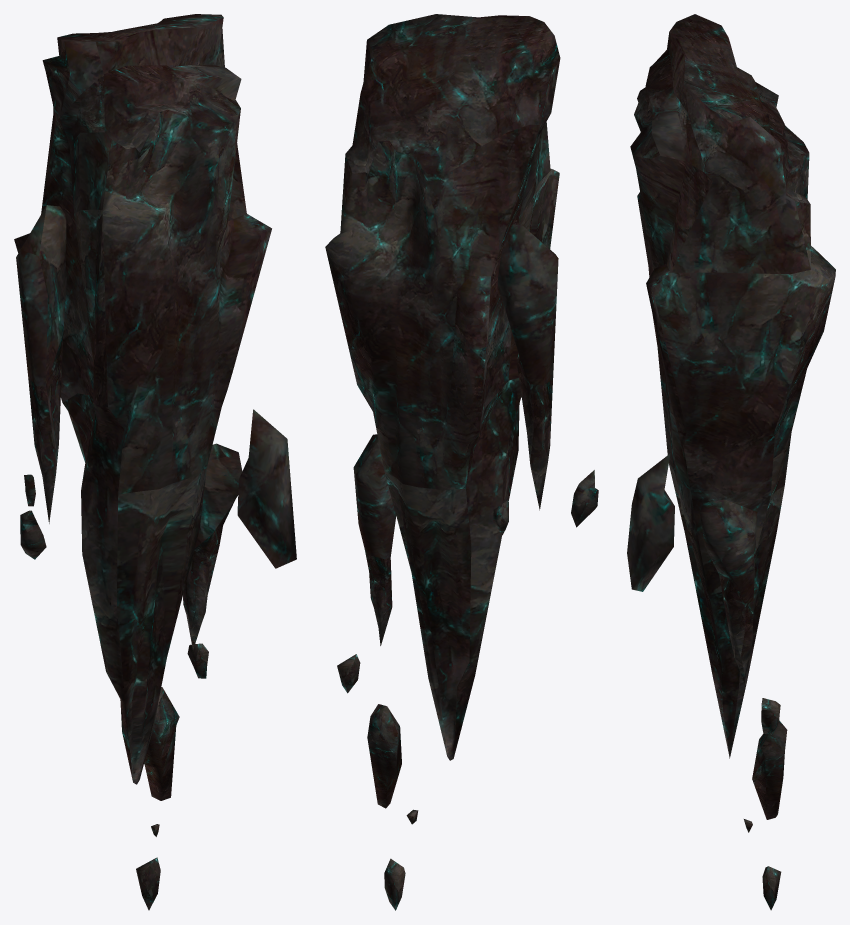
Rendered from S_Rock_Black088.FBX.
3 views of the same model, side by side, from view 1: azimuth 30°, elevation 25°; view 2: azimuth 150°, elevation 25°; view 3: azimuth 270°, elevation 25° (orthographic). The views are drawn at different scales.
Visible parts, largest first — view 1: S_Rock_Black088; view 2: S_Rock_Black088; view 3: S_Rock_Black088.
Boxes of the visible parts, <box> form: S_Rock_Black088: <box>14,14,296,910</box>; S_Rock_Black088: <box>325,14,598,910</box>; S_Rock_Black088: <box>627,14,835,910</box>.
Size of the model in its own units: 530 by 432 by 1922.
